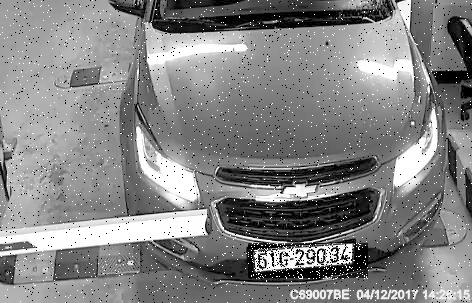License-plate: (249, 245, 369, 281)
